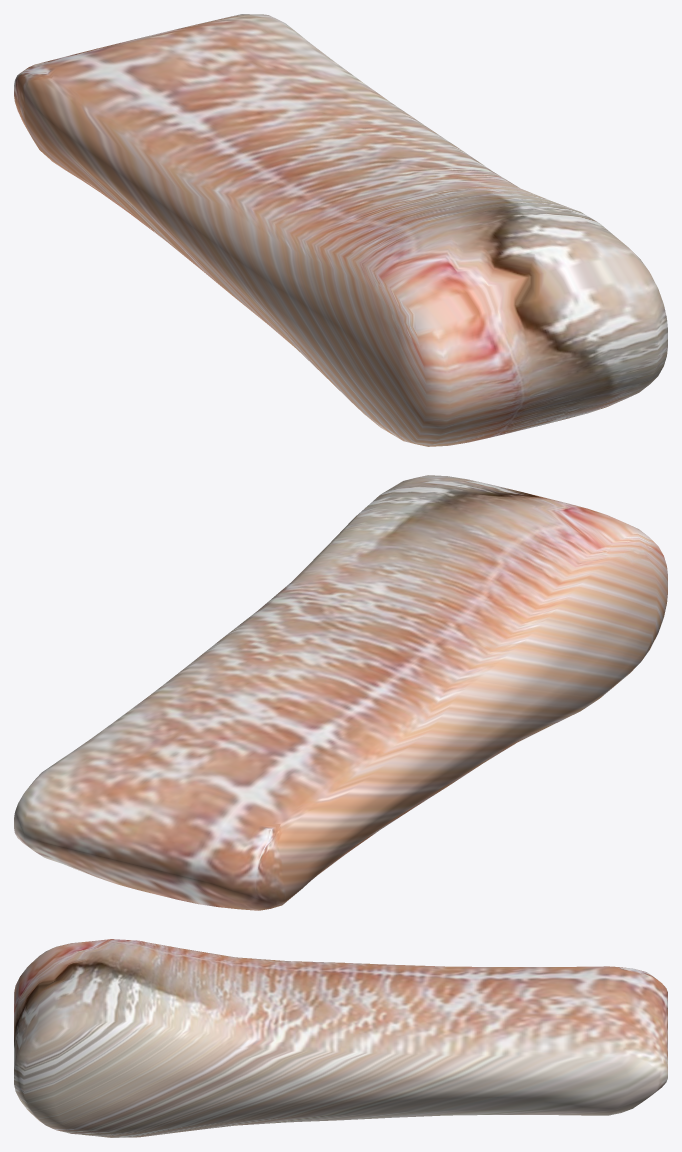
The model's file is codModel2.fbx.
The picture shows the model from 3 angles, top to bottom: view 1: azimuth 30°, elevation 25°; view 2: azimuth 150°, elevation 25°; view 3: azimuth 270°, elevation 25°; orthographic projection. The views are drawn at different scales.
Visible parts, largest first — view 1: cod_fish; view 2: cod_fish; view 3: cod_fish.
Boxes of the visible parts, x1,y1,x2,y2 form: cod_fish: (14,14,667,446); cod_fish: (14,475,667,910); cod_fish: (14,939,667,1137).
Size of the model in its own units: 1.53 by 1.09 by 4.24.
1 material, 1 textured.
